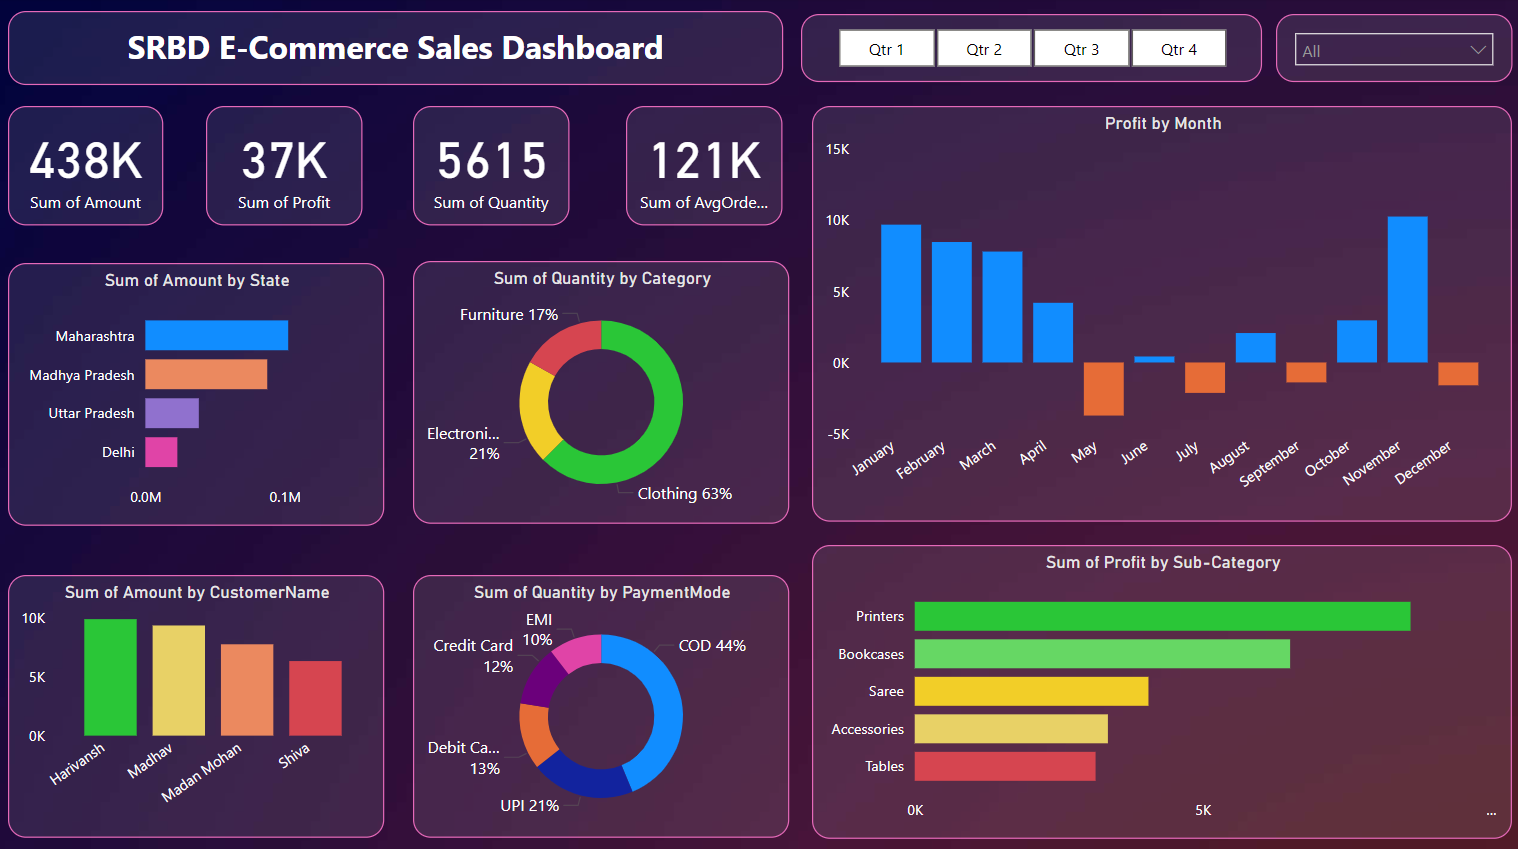

What the dashboard file says about the page in this screenshot:
{"tool":"powerbi","page":{"name":"Page 1","canvas":[1280,720],"ordinal":0},"visuals":[{"type":"textbox","box":[9.8,10.7,648.8,62.4],"z":0},{"type":"columnChart","title":"Profit by Month","fields":{"Category":["Orders.Order Date.Variation.Date Hierarchy.Month"],"Y":["Details.Profit"]},"box":[682.9,90.7,586.3,348.3],"z":1000},{"type":"barChart","fields":{"Category":["Details.Sub-Category"],"Y":["Details.Profit"]},"box":[682.9,457.6,586.3,245.9],"z":2000},{"type":"donutChart","fields":{"Category":["Details.Category"],"Y":["Details.Quantity"]},"box":[349.3,220.5,315.1,220.5],"z":3000},{"type":"donutChart","fields":{"Y":["Details.Quantity"],"Category":["Details.PaymentMode"]},"box":[349.3,482.9,315.1,220.5],"z":4000},{"type":"card","fields":{"Values":["Details.Amount"]},"box":[9.8,90.7,129.8,99.5],"z":5000},{"type":"card","fields":{"Values":["Details.Quantity"]},"box":[349.3,90.7,130.7,99.5],"z":6000},{"type":"card","fields":{"Values":["Details.Profit"]},"box":[175.6,90.7,130.7,99.5],"z":7000},{"type":"card","fields":{"Values":["Details.AvgOrderValue"]},"box":[527.8,90.7,130.7,99.5],"z":8000},{"type":"barChart","fields":{"Category":["Orders.State"],"Y":["Details.Amount"]},"box":[9.8,221.5,315,220],"z":9000},{"type":"columnChart","fields":{"Category":["Orders.CustomerName"],"Y":["Details.Amount"]},"box":[9.8,482.9,315.1,220.5],"z":10000},{"type":"slicer","fields":{"Values":["Orders.Order Date.Variation.Date Hierarchy.Quarter"]},"box":[674.1,13.7,386.3,56.6],"z":11000},{"type":"slicer","fields":{"Values":["Orders.State"]},"box":[1071.2,13.7,198,56.6],"z":12000}]}

Visuals, with their boxes in screenshot pixels (x1, y1, x2, y2), scaled from the page's 1280x720 canvas onto the 1518x849 screenshot:
textbox: (left=12, top=13, right=781, bottom=86)
"Profit by Month" columnChart: (left=810, top=107, right=1505, bottom=518)
barChart - Details.Sub-Category x Details.Profit: (left=810, top=540, right=1505, bottom=830)
donutChart - Details.Category x Details.Quantity: (left=414, top=260, right=788, bottom=520)
donutChart - Details.Quantity x Details.PaymentMode: (left=414, top=569, right=788, bottom=829)
card - Details.Amount: (left=12, top=107, right=166, bottom=224)
card - Details.Quantity: (left=414, top=107, right=569, bottom=224)
card - Details.Profit: (left=208, top=107, right=363, bottom=224)
card - Details.AvgOrderValue: (left=626, top=107, right=781, bottom=224)
barChart - Orders.State x Details.Amount: (left=12, top=261, right=385, bottom=521)
columnChart - Orders.CustomerName x Details.Amount: (left=12, top=569, right=385, bottom=829)
slicer - Orders.Order Date.Variation.Date Hierarchy.Quarter: (left=799, top=16, right=1258, bottom=83)
slicer - Orders.State: (left=1270, top=16, right=1505, bottom=83)
